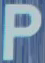Parking: (3, 2, 42, 62)
